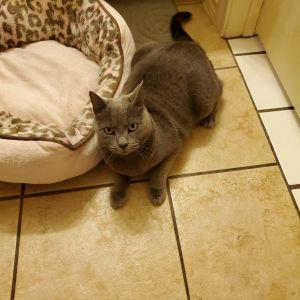rblue: (82, 89, 164, 169)
